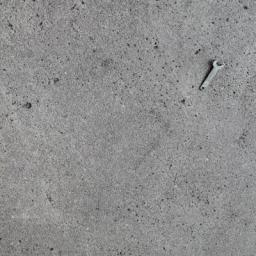FOD: (198, 57, 230, 93)
